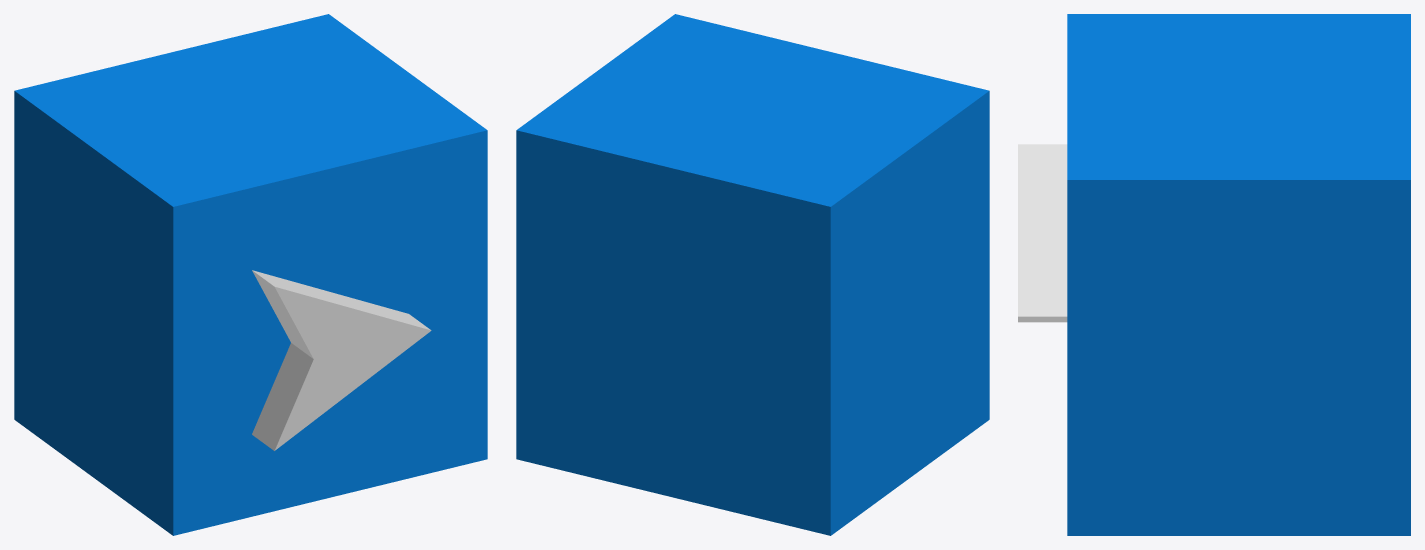
File: cube-direction.glb
The picture shows the model from 3 angles, left to right: view 1: azimuth 30°, elevation 25°; view 2: azimuth 150°, elevation 25°; view 3: azimuth 270°, elevation 25°; orthographic projection. The views are drawn at different scales.
Parts seen in each view (by area): view 1: cube-direction; view 2: cube-direction; view 3: cube-direction.
Boxes of the visible parts, bbox=[...] form: cube-direction: bbox=[14, 14, 487, 535]; cube-direction: bbox=[516, 14, 989, 535]; cube-direction: bbox=[1018, 14, 1410, 535].
Bounding box in the file's own units: 1 × 1 × 1.
